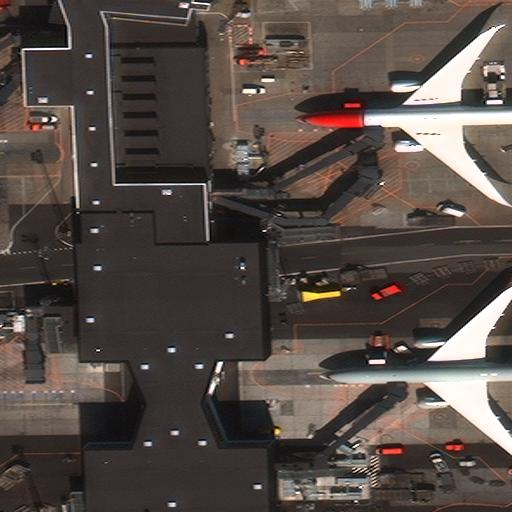Large Civil Transport: (293, 30, 512, 200), (316, 283, 512, 459)
